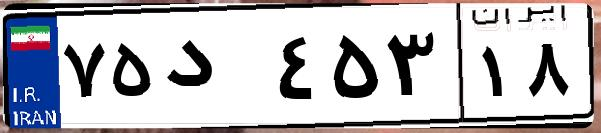1: (475, 38, 525, 113)
3: (385, 28, 445, 110)
4: (270, 28, 330, 110)
5: (330, 28, 385, 110), (110, 28, 158, 98)
7: (57, 26, 110, 100)
8: (525, 38, 570, 115)
د: (158, 20, 270, 120)
